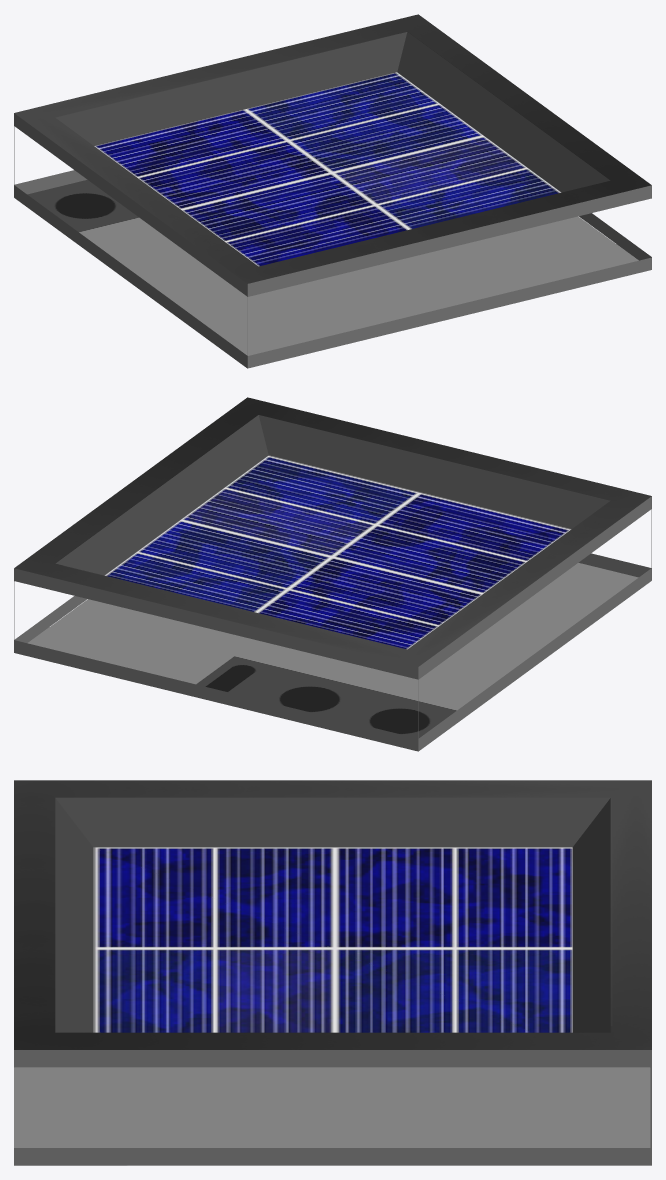
The model's file is obj_dayLightSensor.obj.
The picture shows the model from 3 angles, top to bottom: view 1: azimuth 30°, elevation 25°; view 2: azimuth 150°, elevation 25°; view 3: azimuth 270°, elevation 25°; orthographic projection. The views are drawn at different scales.
Visible parts, largest first — view 1: Cube; view 2: Cube; view 3: Cube.
Part boxes in pixels (x1,y1,x2,y2): Cube: (14, 14, 651, 368); Cube: (14, 397, 651, 751); Cube: (14, 780, 651, 1165).
Bounding box in the file's own units: 1 × 0.2 × 1.
